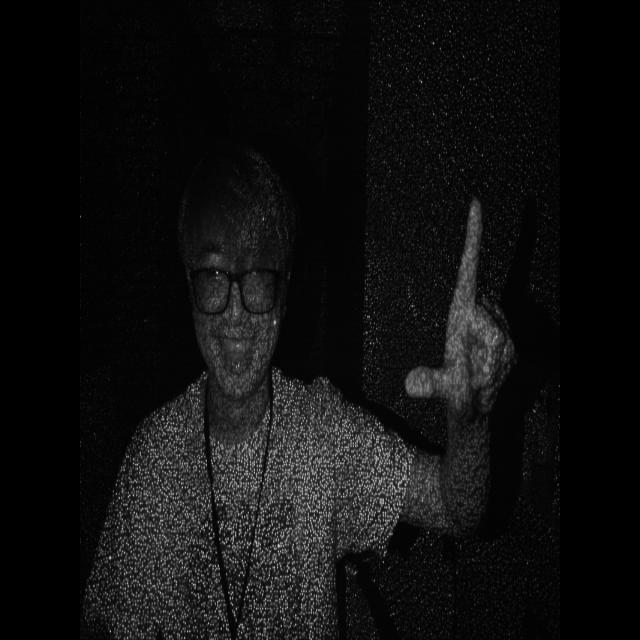L: (400, 183, 518, 421)
